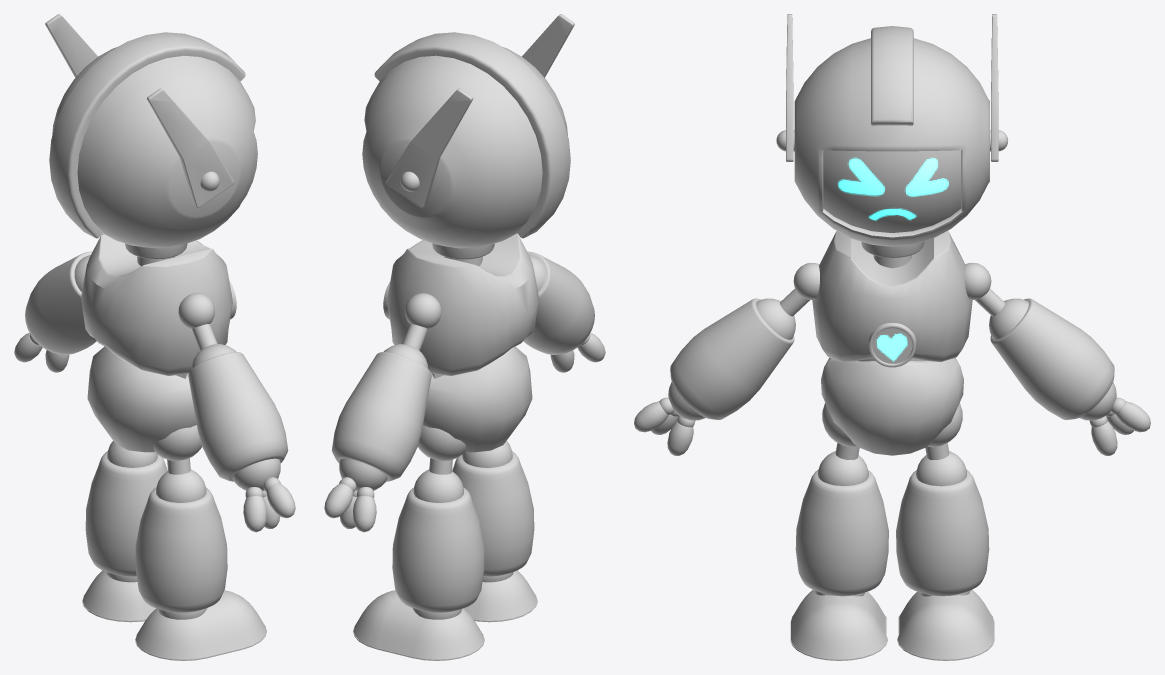
The model's file is robot.fbx.
3 views of the same model, side by side, from view 1: azimuth 30°, elevation 25°; view 2: azimuth 150°, elevation 25°; view 3: azimuth 270°, elevation 25° (orthographic).
Visible parts, largest first — view 1: Sphere.006; view 2: Sphere.006; view 3: Sphere.006.
Boxes of the visible parts, x1,y1,x2,y2 form: Sphere.006: (14, 14, 295, 660); Sphere.006: (324, 14, 605, 660); Sphere.006: (634, 14, 1150, 660).
Bounding box in the file's own units: 160 × 484 × 387.
